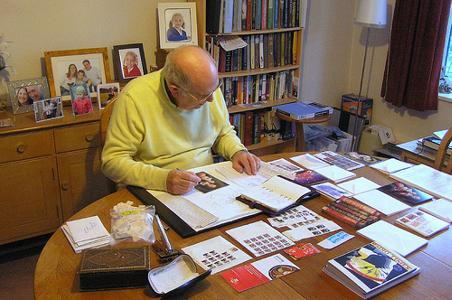person: (98, 46, 261, 195)
